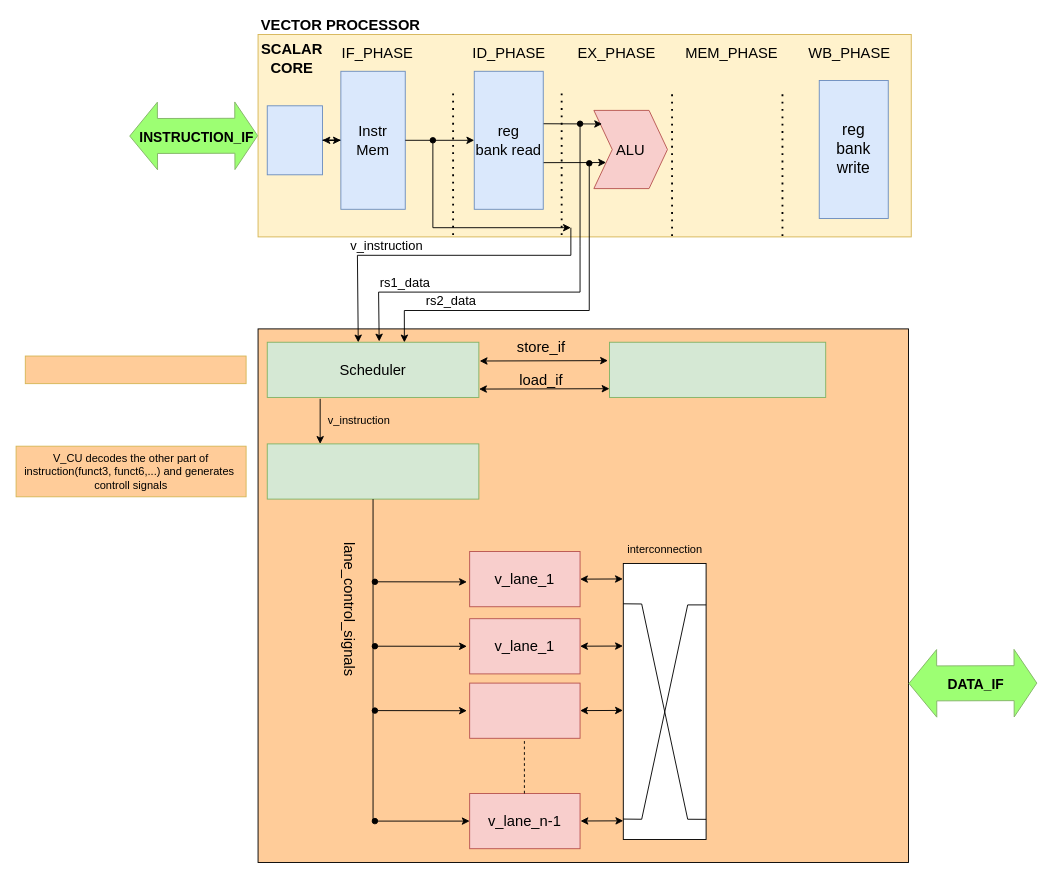
Some shapes in this 1053 by 879 pixel diagram are drawn without their labels. The box of each missing label's shape, as (x1, y1, x2, y2) in pixels:
M_CU: (609, 341, 826, 397)
pc: (266, 105, 322, 175)
Scheduler decodes part of the instruction (whether its load, store, arith, ....): (24, 355, 246, 384)
V_CU: (266, 443, 479, 499)
v_lane_2: (469, 682, 580, 738)
